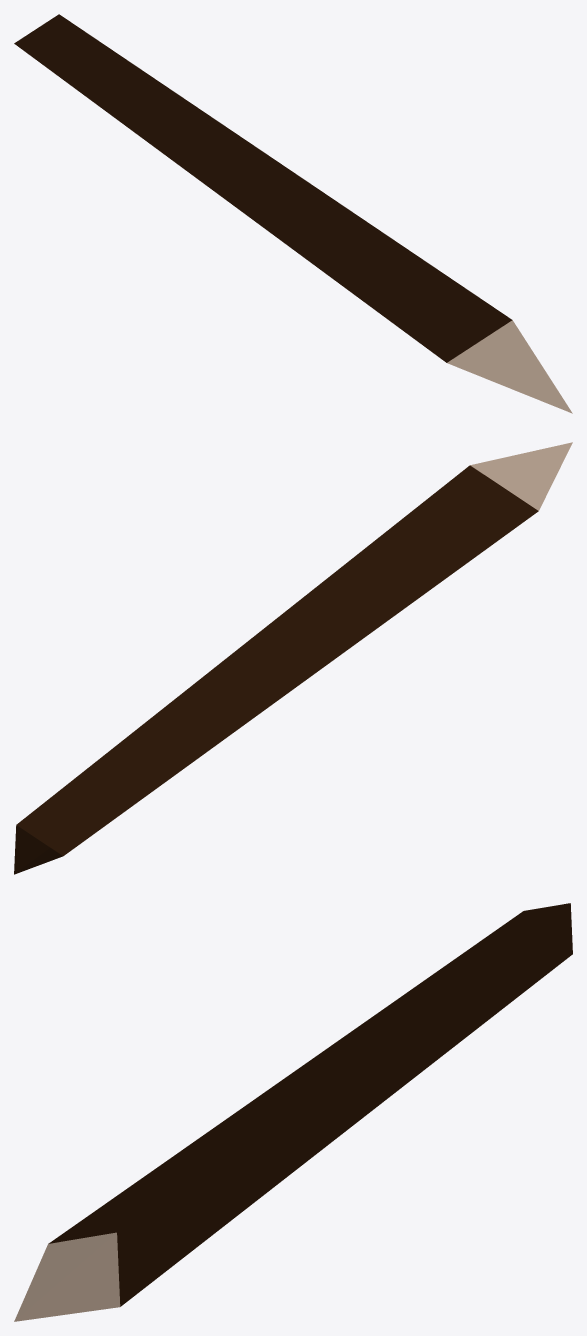
The model's file is Builder_Arrow.FBX.
The picture shows the model from 3 angles, top to bottom: view 1: azimuth 30°, elevation 25°; view 2: azimuth 150°, elevation 25°; view 3: azimuth 330°, elevation 25°; orthographic projection. The views are drawn at different scales.
Parts seen in each view (by area): view 1: Builder_Arrow; view 2: Builder_Arrow; view 3: Builder_Arrow.
Part boxes in pixels (x1,y1,x2,y2): Builder_Arrow: [14, 14, 572, 413]; Builder_Arrow: [14, 442, 572, 874]; Builder_Arrow: [14, 903, 572, 1321].
Bounding box in the file's own units: 16.67 × 16.17 × 219.
